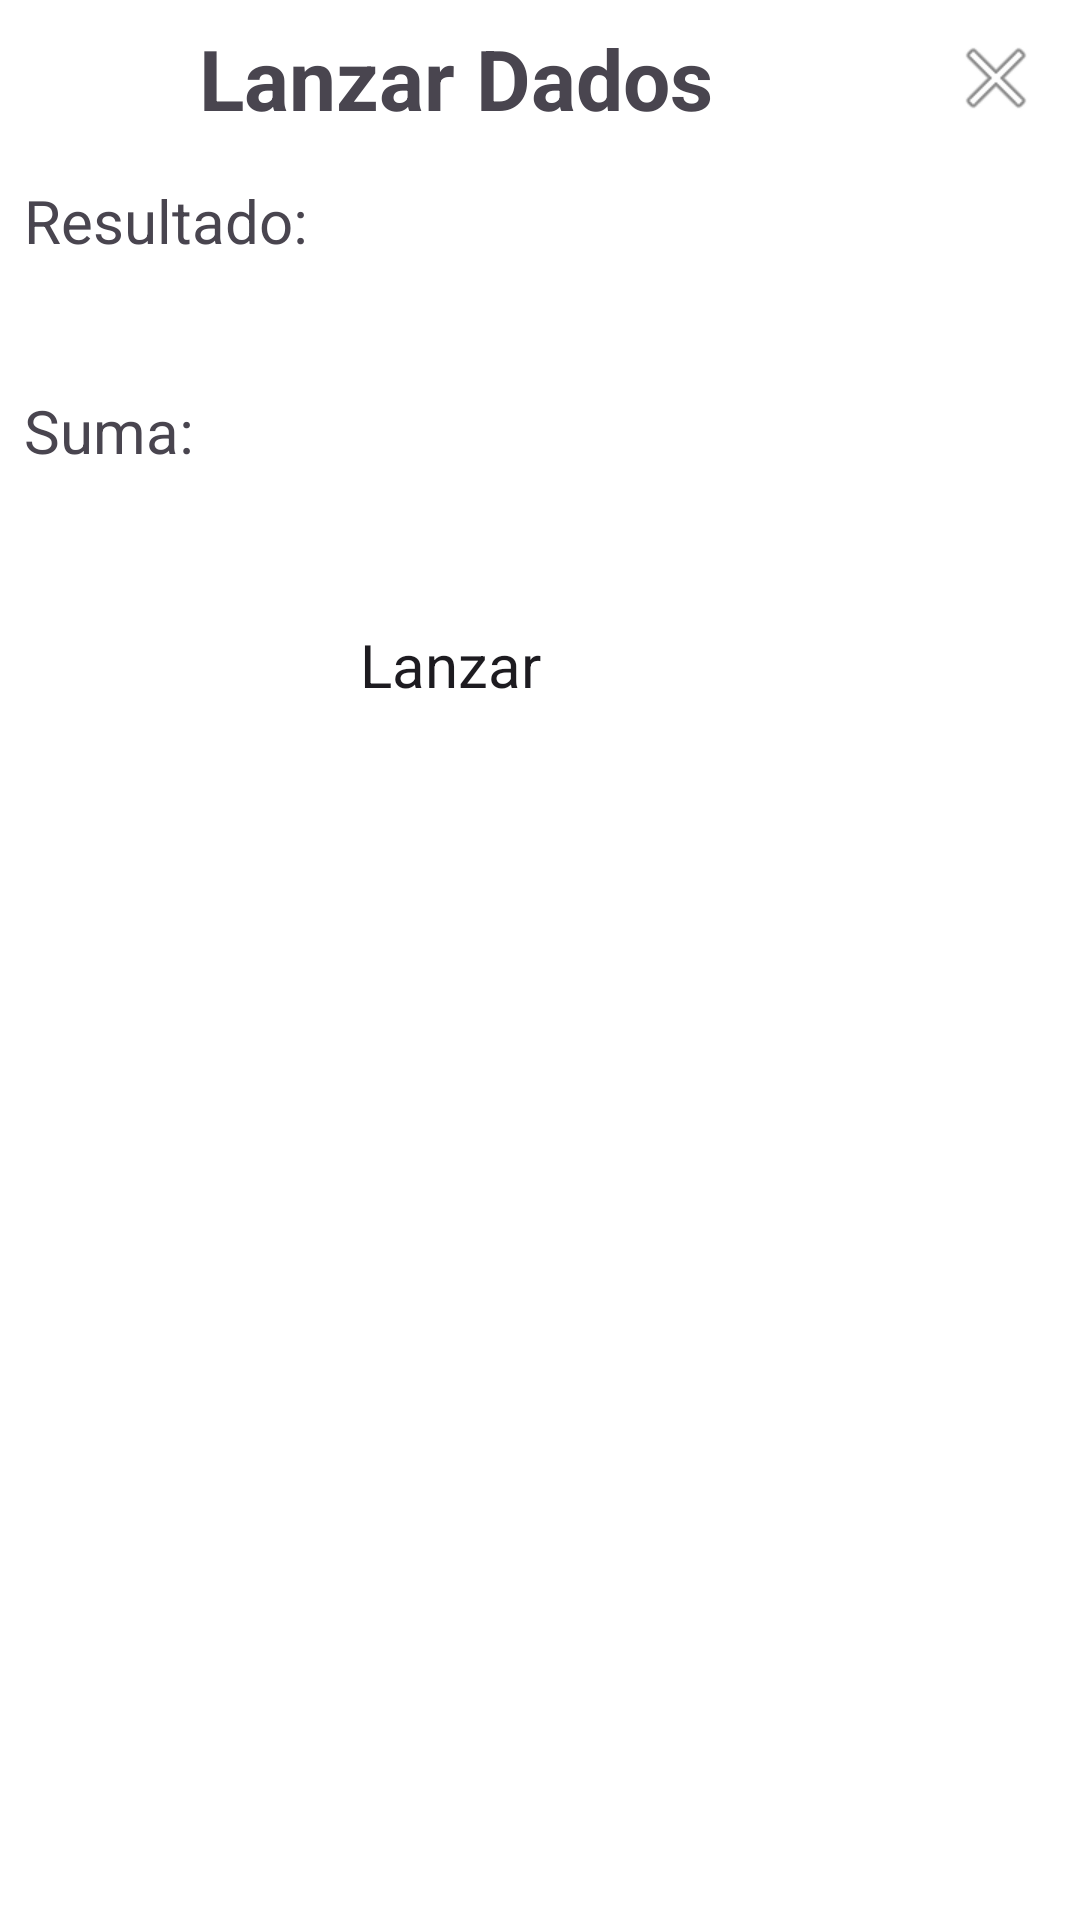

Named icons in this screenshot (1080px×1920px) and their centers, point (x, y):
Volver: point (996, 78)
